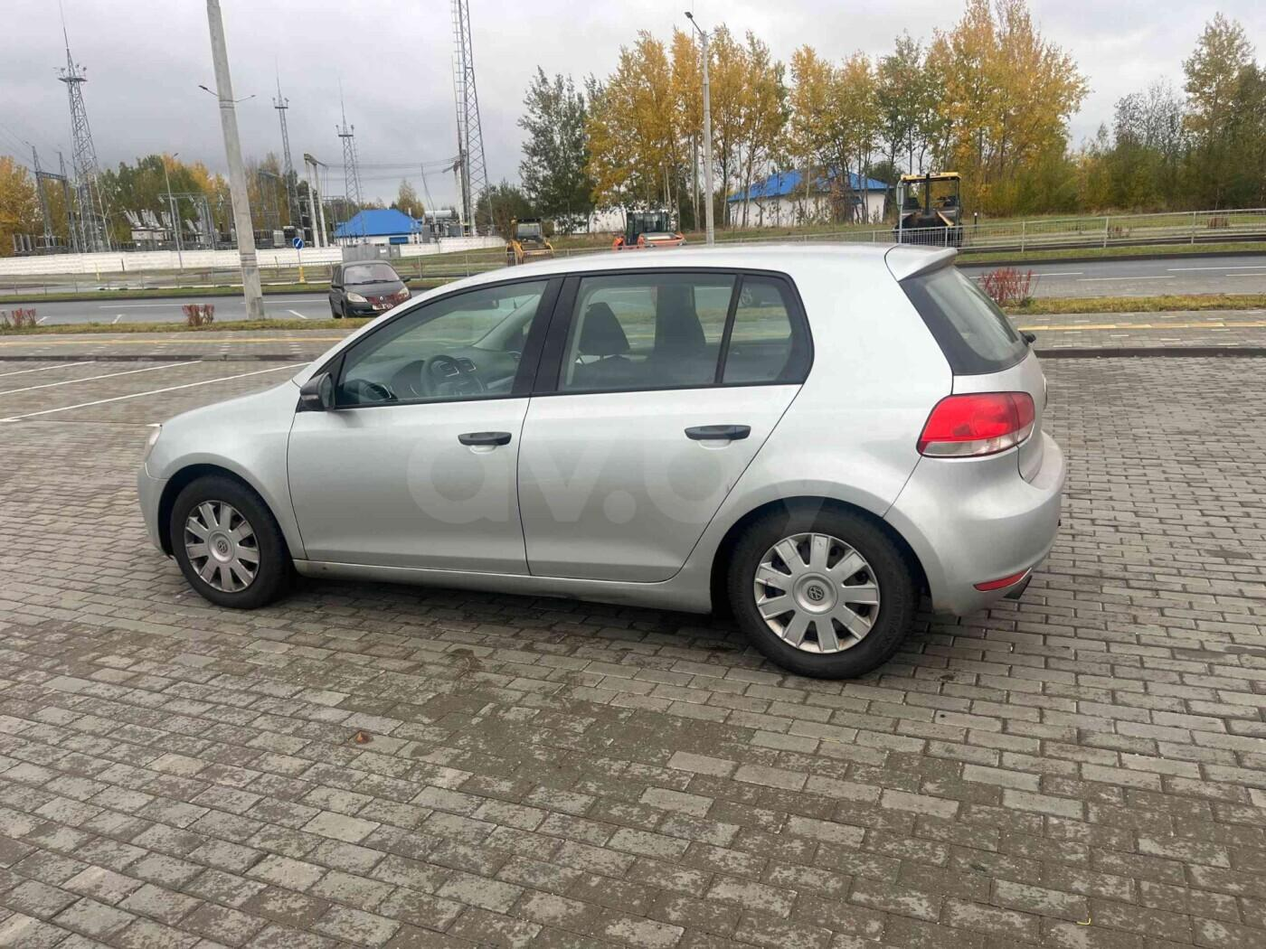Golf_2008-2013: (141, 235, 1063, 675)
